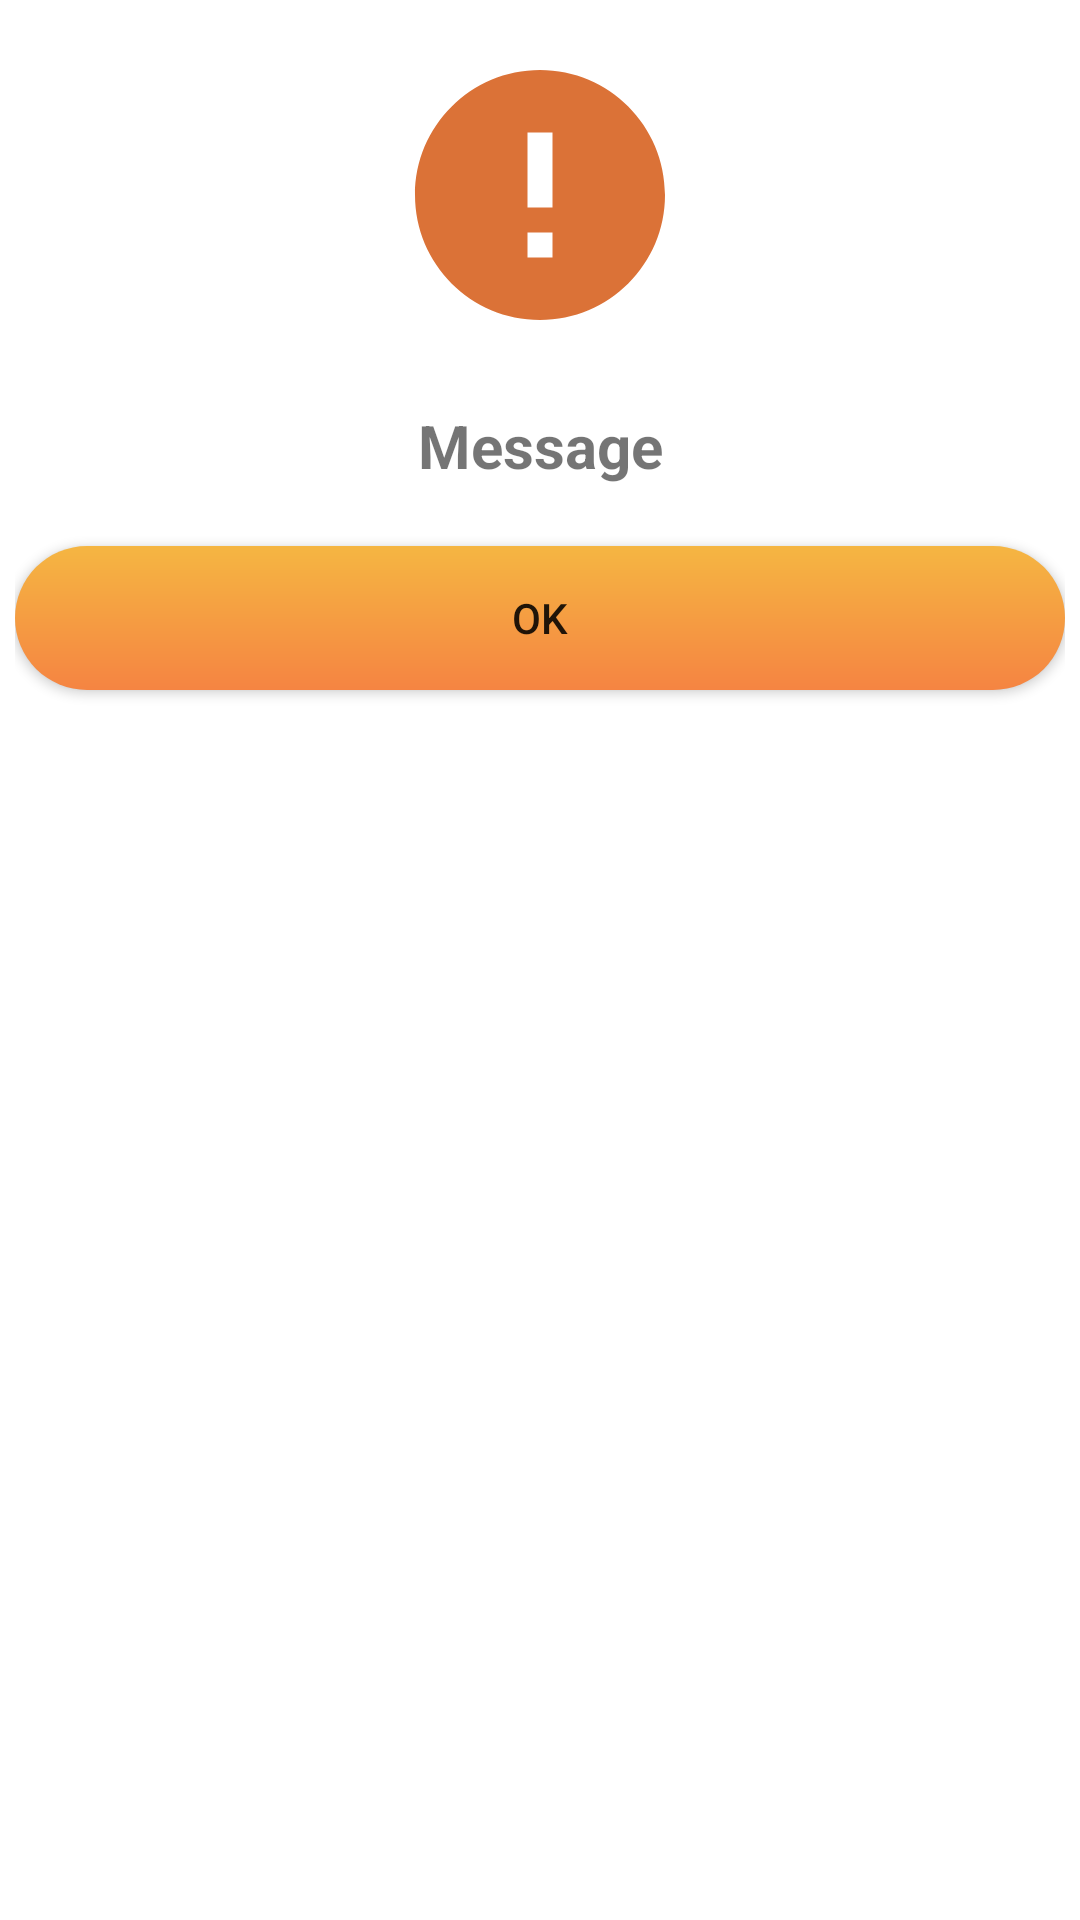

Named icons in this screenshot (1080px x 1920px) and their centers, point (x, y):
error: point (540, 195)
